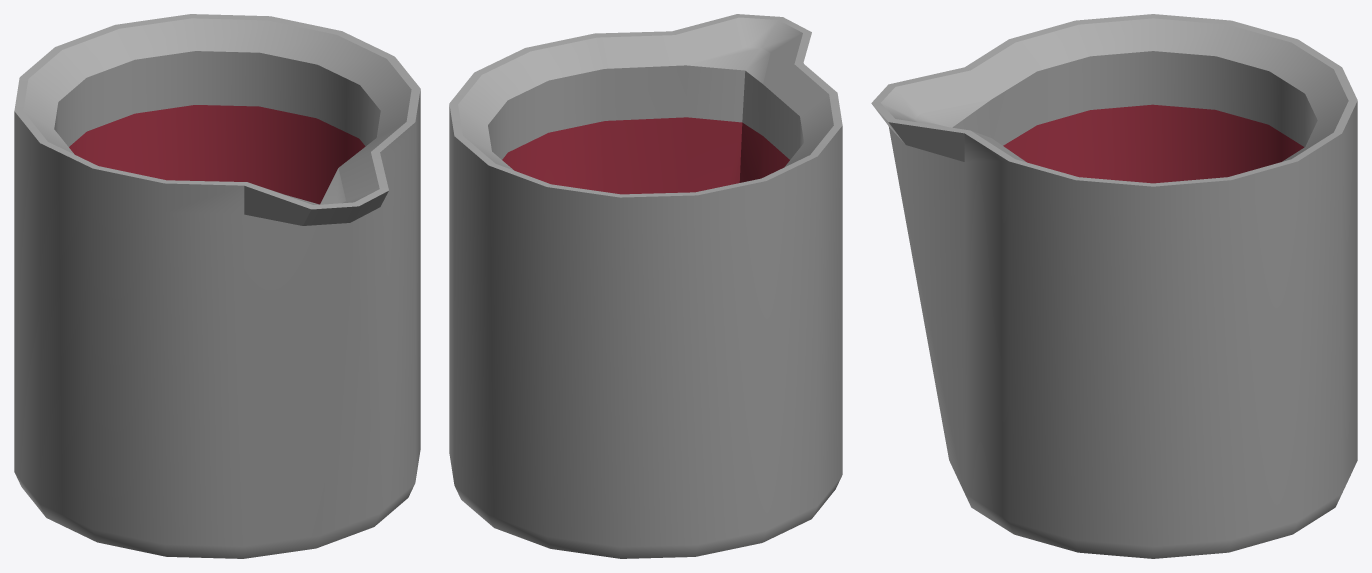
The model's file is Becker03.fbx.
3 views of the same model, side by side, from view 1: azimuth 30°, elevation 25°; view 2: azimuth 150°, elevation 25°; view 3: azimuth 270°, elevation 25° (orthographic). The views are drawn at different scales.
Visible parts, largest first — view 1: Becker03; view 2: Becker03; view 3: Becker03.
Part boxes in pixels (left/top/right/bottom): Becker03: left=14, top=14, right=420, bottom=558; Becker03: left=449, top=14, right=842, bottom=558; Becker03: left=871, top=14, right=1357, bottom=558.
Size of the model in its own units: 5.03 by 5.19 by 5.99.
